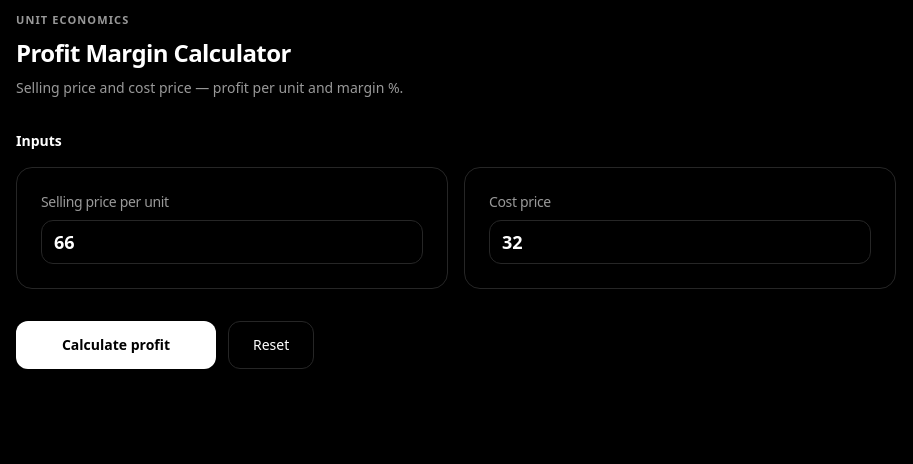
Test: ProfitMarginCalculatorMVP UI binding › shows validation when selling price per unit is zero
Replace the text in the number field named "selling price per unit" with "0". click: x=232, y=242
box: top-left (41, 220), bottom-right (423, 264)
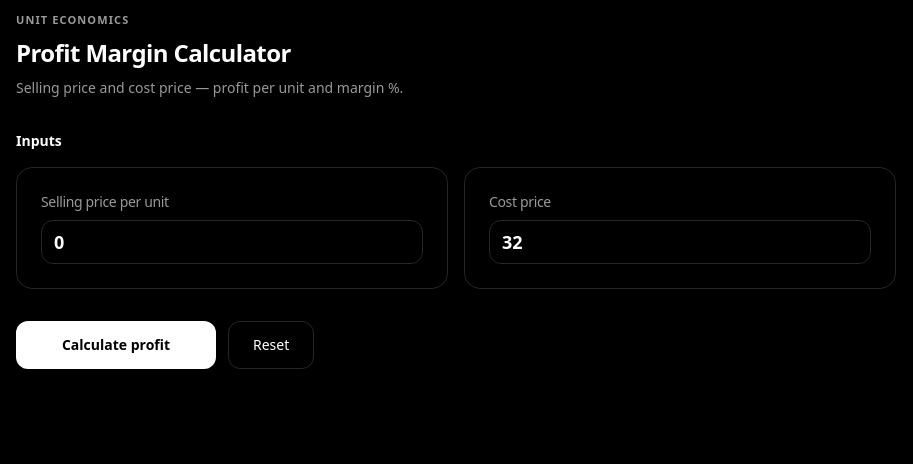
Click the button "Calculate profit". click: x=116, y=345
box: top-left (16, 321), bottom-right (216, 369)
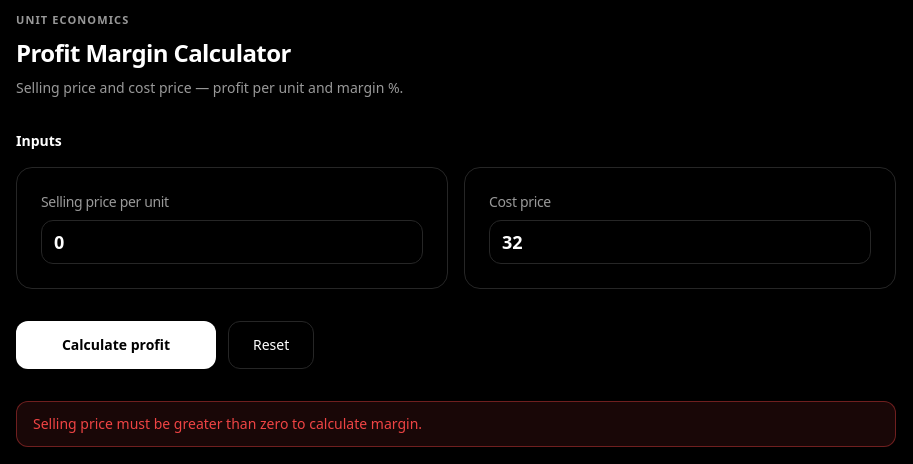
Expected: the text "Selling price must be greater than zero to calculate margin." is shown, top-left (16, 401), bottom-right (896, 447)
